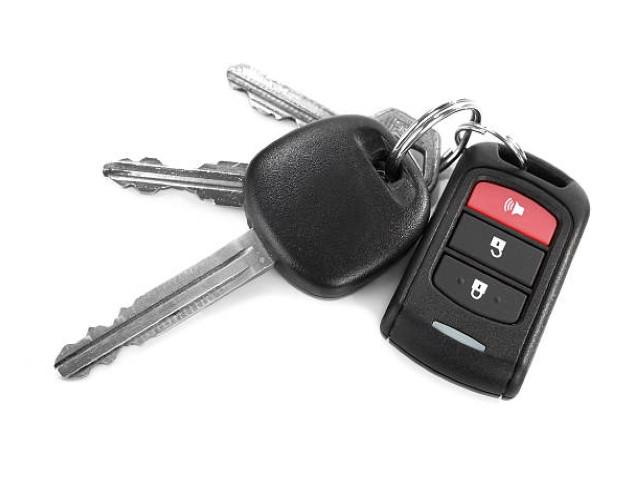key: (50, 117, 430, 430)
